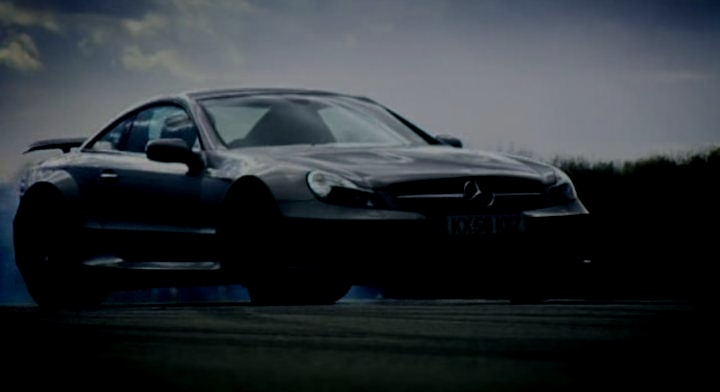car: (0, 81, 621, 345)
